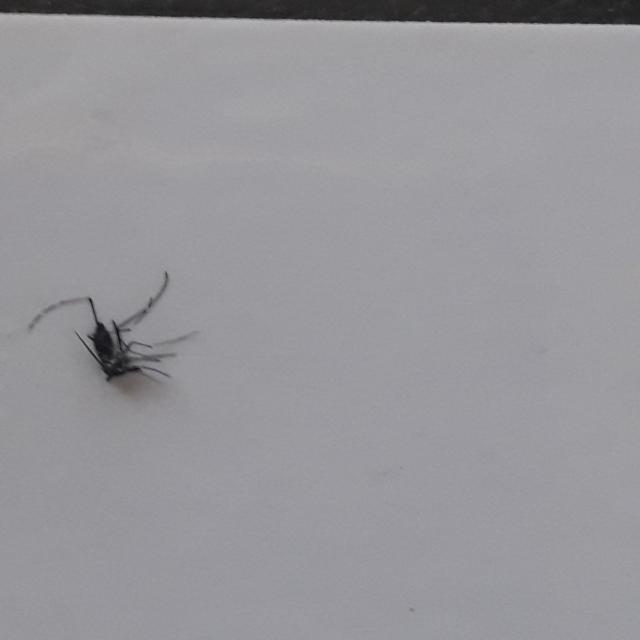albopictus: (25, 265, 198, 388)
